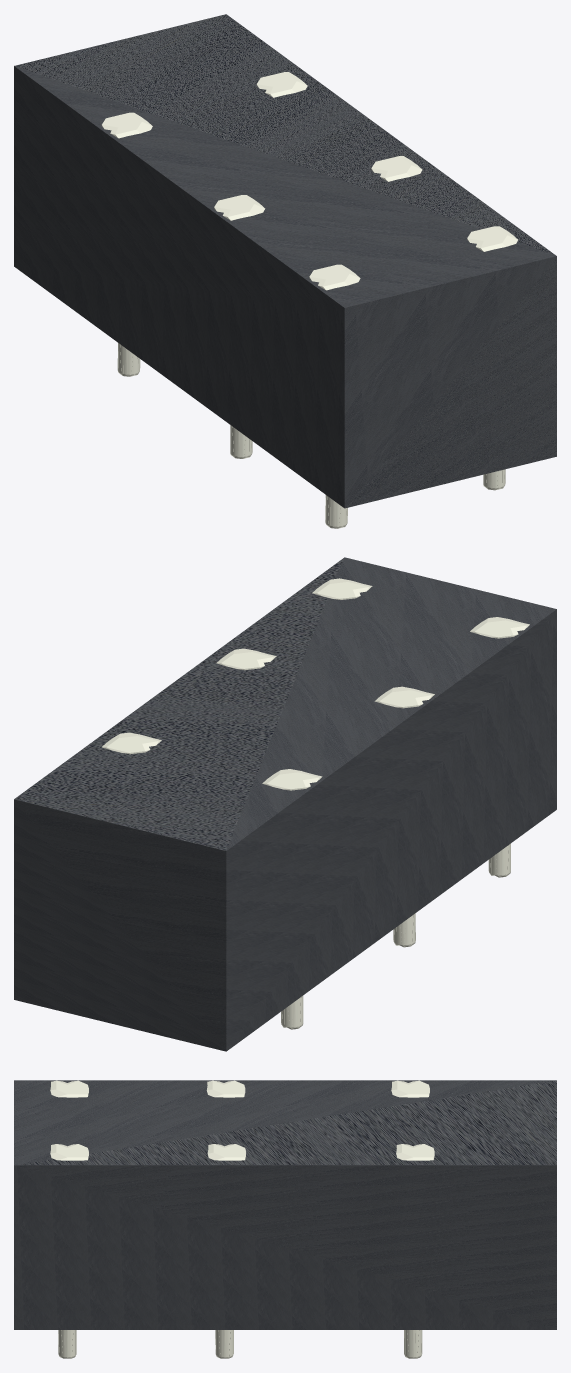
The model's file is BossFightSinCueva.fbx.
The picture shows the model from 3 angles, top to bottom: view 1: azimuth 30°, elevation 25°; view 2: azimuth 150°, elevation 25°; view 3: azimuth 270°, elevation 25°; orthographic projection. The views are drawn at different scales.
Parts seen in each view (by area): view 1: Trono; view 2: Trono; view 3: Trono.
Boxes of the visible parts, box(x1,y1,x2,y2) form: Trono: box(14, 14, 556, 528); Trono: box(14, 557, 556, 1051); Trono: box(14, 1080, 556, 1358).
Bounding box in the file's own units: 10045 × 11211 × 27088.
Materials: 6 (1 with a texture image).
